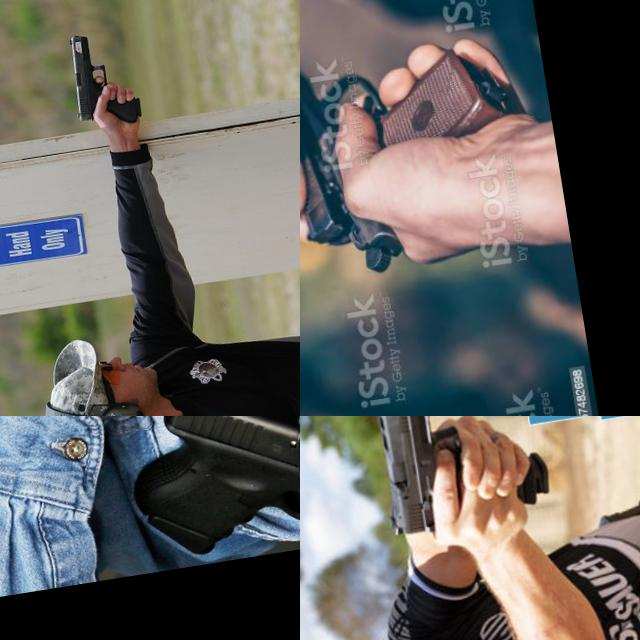handgun: (300, 1, 538, 292), (111, 416, 300, 573), (361, 416, 476, 540), (63, 23, 146, 131)
